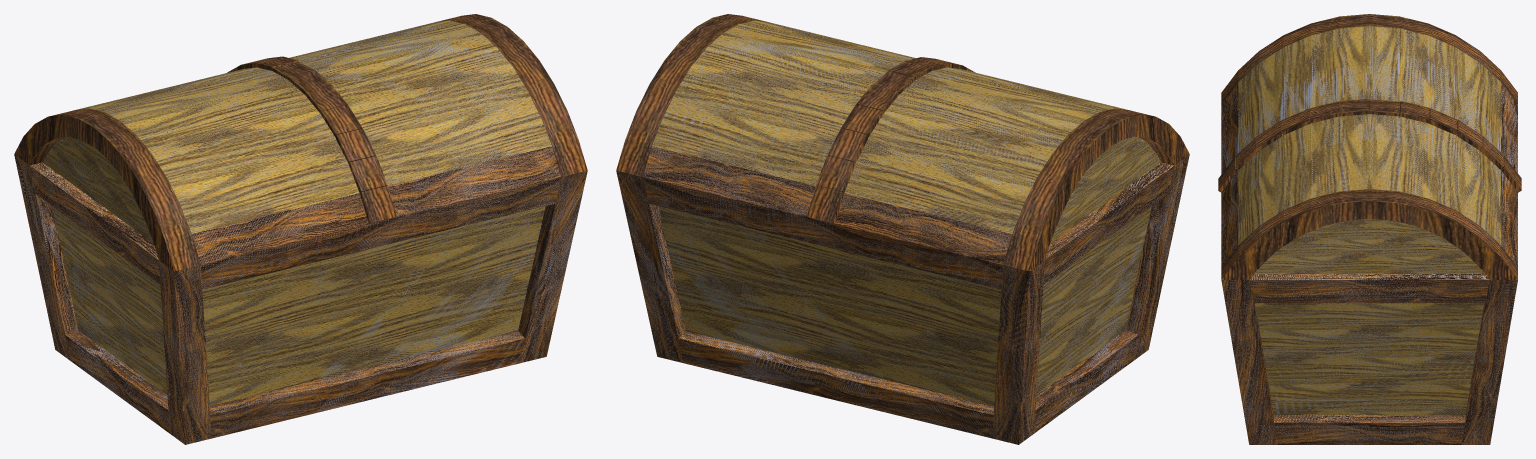
The picture shows the model from 3 angles, left to right: view 1: azimuth 30°, elevation 25°; view 2: azimuth 150°, elevation 25°; view 3: azimuth 270°, elevation 25°; orthographic projection. The views are drawn at different scales.
Parts seen in each view (by area): view 1: SketchUp (×5), group_1 (×2), group_3 (×2), group_7, group_9; view 2: SketchUp (×5), group_1 (×2), group_3 (×2), group_9, group_7; view 3: SketchUp (×4), group_3 (×2), group_1 (×2), group_9, group_7.
Boxes of the visible parts, box(x1,y1,x2,y2) form: SketchUp (×5): box(14, 20, 587, 444); group_1 (×2): box(14, 108, 200, 271); group_3 (×2): box(435, 14, 587, 176); group_7: box(289, 70, 396, 223); group_9: box(227, 56, 314, 79); SketchUp (×5): box(616, 20, 1189, 444); group_1 (×2): box(1003, 108, 1189, 271); group_3 (×2): box(616, 14, 768, 176); group_9: box(806, 71, 915, 223); group_7: box(888, 57, 975, 79); SketchUp (×4): box(1221, 26, 1517, 444); group_3 (×2): box(1221, 189, 1517, 279); group_1 (×2): box(1221, 14, 1517, 104); group_9: box(1369, 99, 1521, 192); group_7: box(1218, 99, 1369, 192).
Bounding box in the file's own units: 15.71 × 10.77 × 10.14.
4 materials, 2 textured.
